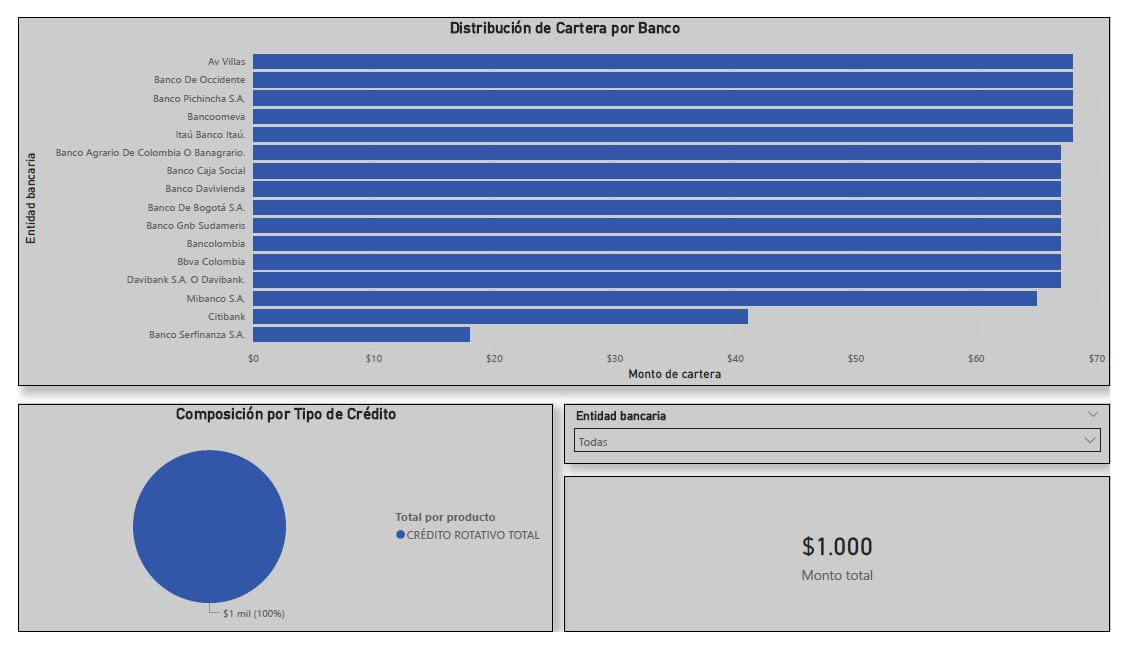

What the dashboard file says about the page in this screenshot:
{"tool":"powerbi","page":{"name":"Página 1","canvas":[1280,720],"ordinal":0},"visuals":[{"type":"clusteredBarChart","title":"Distribución de Cartera por Entidad Bancaria","fields":{"Category":["datos_cartera.nombreentidad"],"Y":["Sum(datos_cartera.unicap)"]},"box":[0,0,805,431.7],"z":0},{"type":"card","title":"Saldo Total Cartera Gestionada","fields":{"Values":["Sum(datos_cartera.unicap)"]},"box":[640,538.3,640,181.7],"z":1000},{"type":"pieChart","title":"Participación por Línea de Crédito","fields":{"Category":["datos_cartera.desc_renglon"],"Y":["Sum(datos_cartera.unicap)"]},"box":[0,453.3,626.7,266.7],"z":2000},{"type":"slicer","fields":{"Values":["datos_cartera.nombreentidad"]},"box":[640,453.3,640,70],"z":3000},{"type":"clusteredColumnChart","title":"Análisis de Exposición por Calificación de Riesgo","fields":{"Category":["datos_cartera._17_calificaci_n_de_riesgo"],"Y":["Sum(datos_cartera._1_saldo_de_la_cartera_a)"]},"box":[826.7,0,453.3,431.7],"z":4000}]}

Visuals, with their boxes in screenshot pixels (x1, y1, x2, y2), scaled from the page's 1280x720 canvas onto the 1126x647 screenshot:
"Distribución de Cartera por Entidad Bancaria" clusteredBarChart: bbox(0, 0, 708, 388)
"Saldo Total Cartera Gestionada" card: bbox(563, 484, 1125, 646)
"Participación por Línea de Crédito" pieChart: bbox(0, 407, 551, 646)
slicer - datos_cartera.nombreentidad: bbox(563, 407, 1125, 470)
"Análisis de Exposición por Calificación de Riesgo" clusteredColumnChart: bbox(727, 0, 1125, 388)
